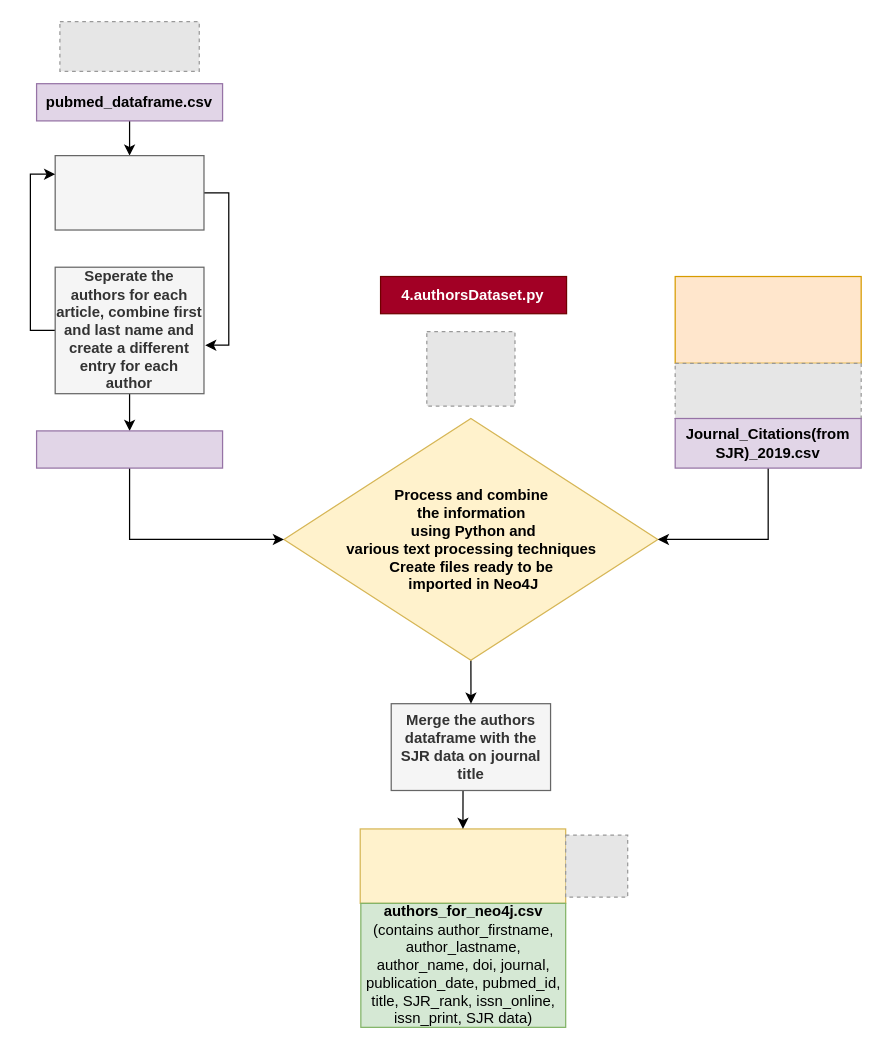
Some shapes in this 883 by 1049 pixel diagram are drawn without their labels. Grey dashed boxes stand in for pictures. The shapes that lost their labels are listed below. From the top down, each one's box as (x1, y1, x2, y2) in pixels, then its label:
(54, 154, 204, 230): Read each article line
(674, 275, 861, 363): Acquire journal rank information from Scimagojr
(35, 430, 223, 468): Authors dataframe
(359, 828, 566, 903): Export data to CSV format Contains authors/articles data and labels
